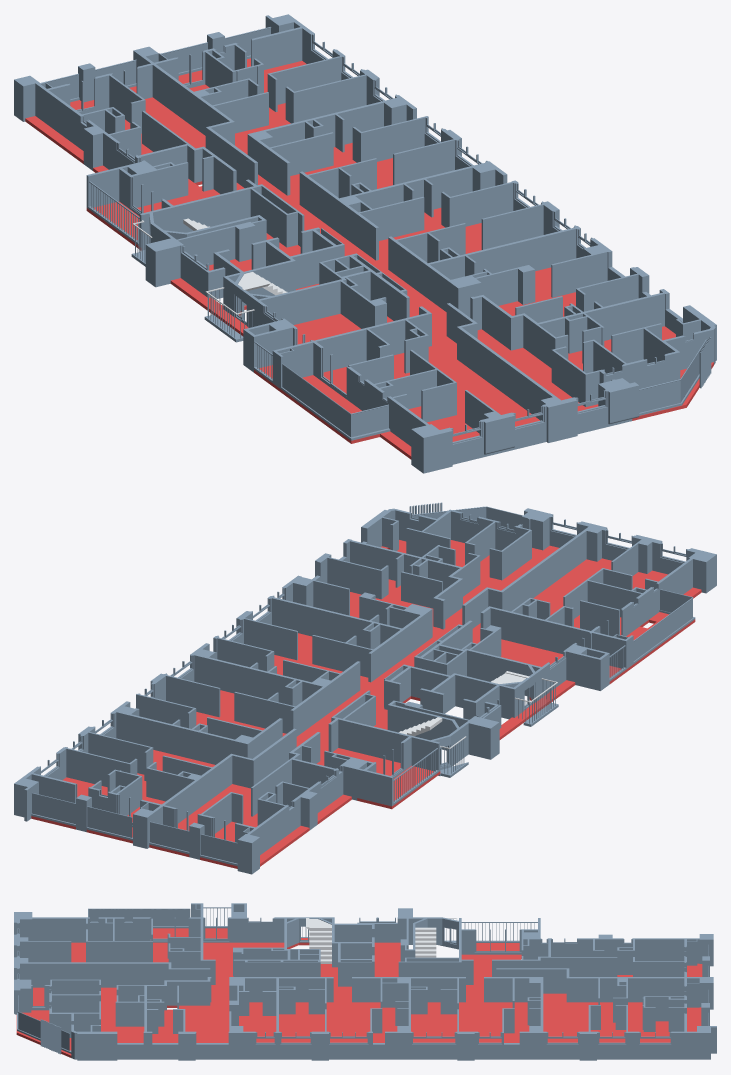
The model's file is flat.glb.
3 views of the same model, one above another, from view 1: azimuth 30°, elevation 25°; view 2: azimuth 150°, elevation 25°; view 3: azimuth 270°, elevation 25° (orthographic). The views are drawn at different scales.
Visible parts, largest first — view 1: object 1, object 3, 樓梯 3 樓梯 1 [842746]; view 2: object 1, object 3, 樓梯 3 樓梯 1 [842746]; view 3: object 1, object 3, 樓梯 3 樓梯 1 [842746].
Part boxes in pixels (<box>): object 1: <box>14,14,716,473</box>; object 3: <box>25,58,713,459</box>; 樓梯 3 樓梯 1 [842746]: <box>132,218,287,314</box>; object 1: <box>14,502,716,874</box>; object 3: <box>31,540,701,868</box>; 樓梯 3 樓梯 1 [842746]: <box>399,671,557,749</box>; object 1: <box>14,903,716,1060</box>; object 3: <box>16,928,702,1057</box>; 樓梯 3 樓梯 1 [842746]: <box>306,918,457,963</box>.
Bounding box in the file's own units: 17.8 × 1.88 × 40.45.
